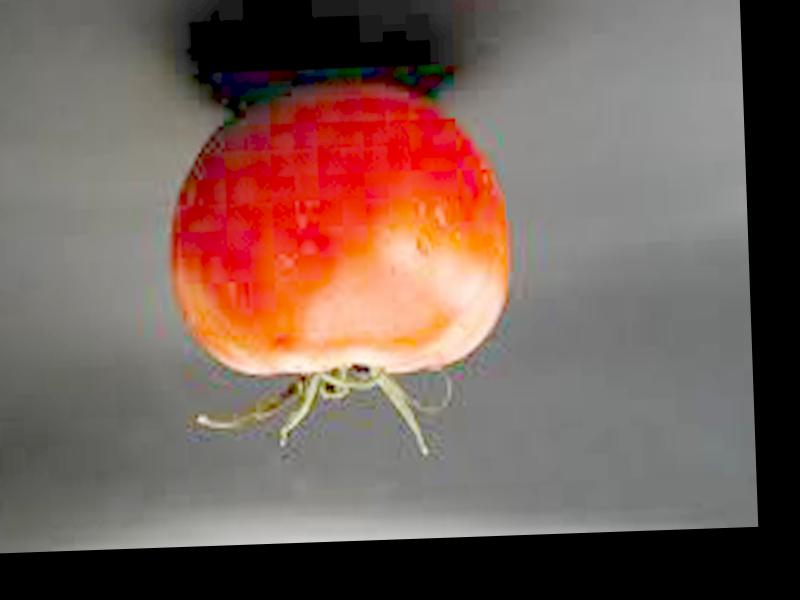Tomato: (167, 82, 517, 379)
